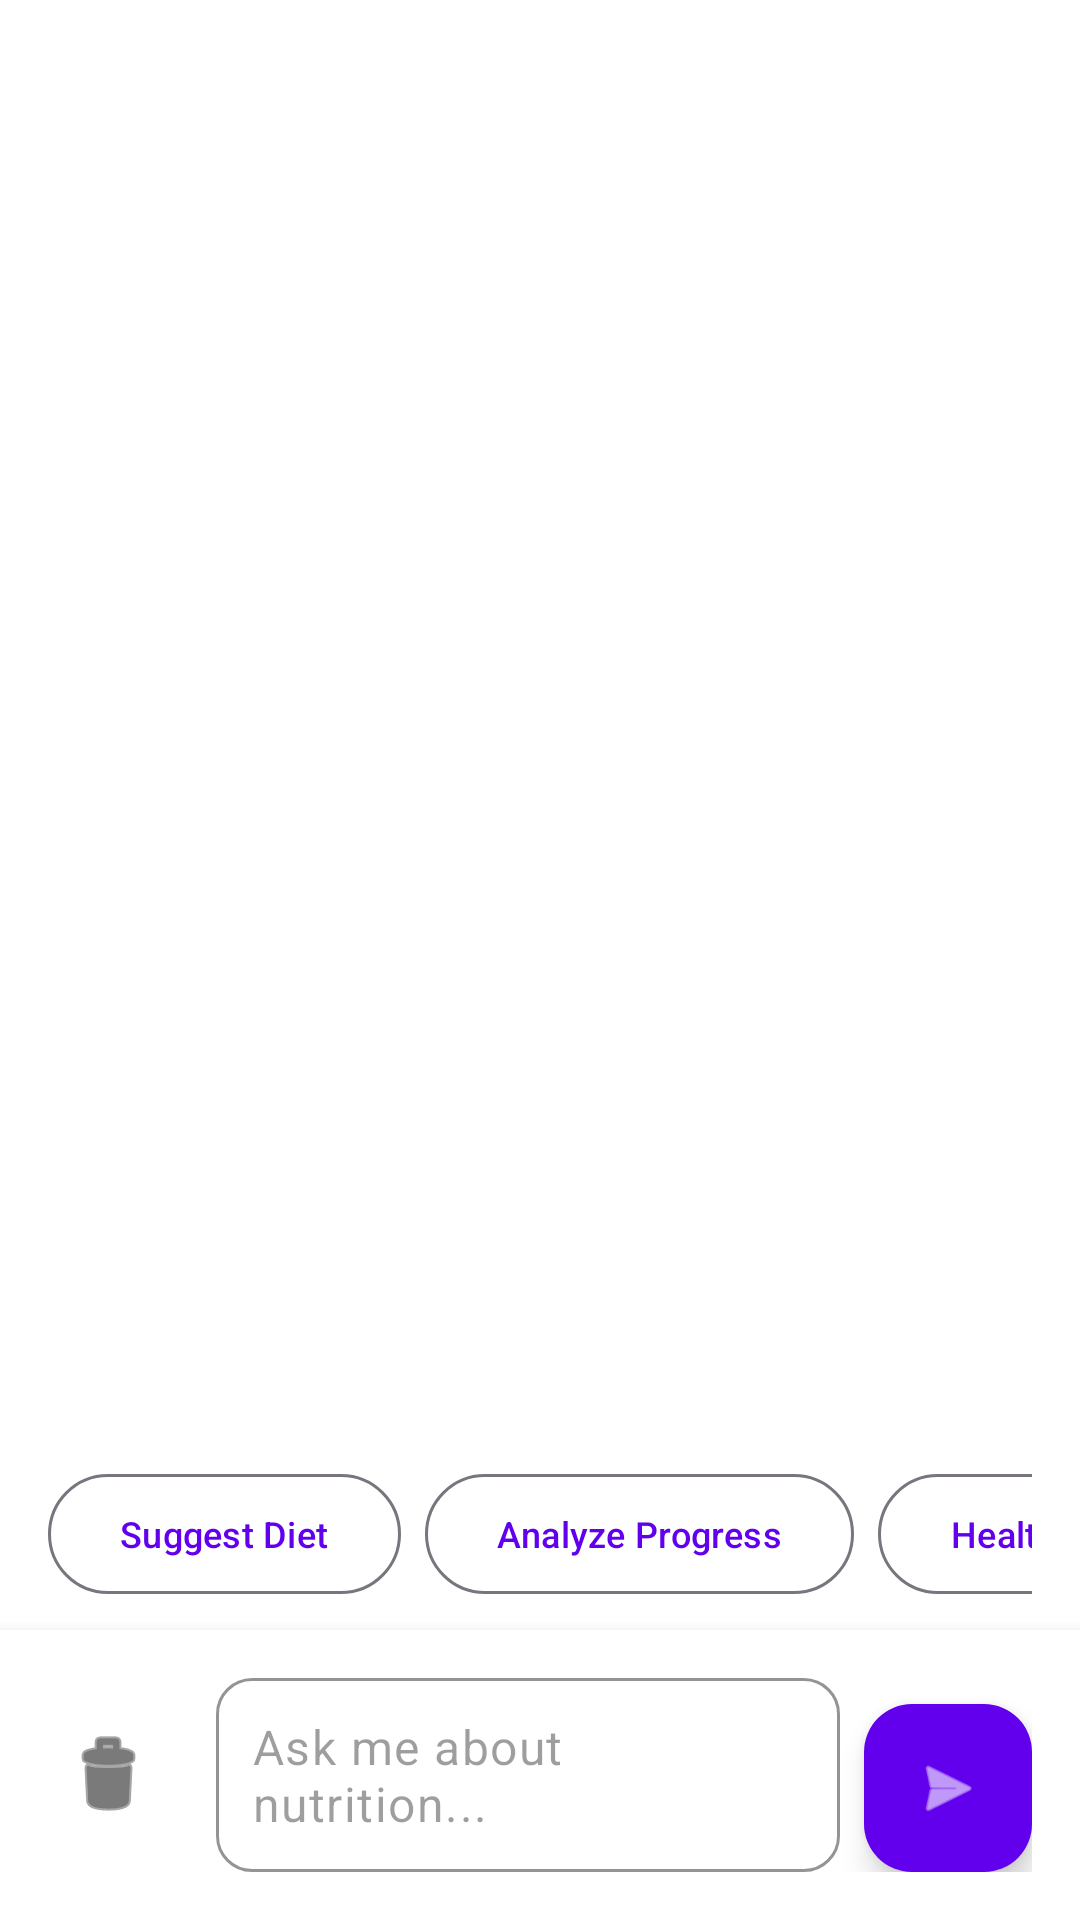

Named icons in this screenshot (1080 x 1920) and their centers, (x=x, y=y):
Clear chat history: (x=108, y=1773)
Send message: (x=948, y=1788)
